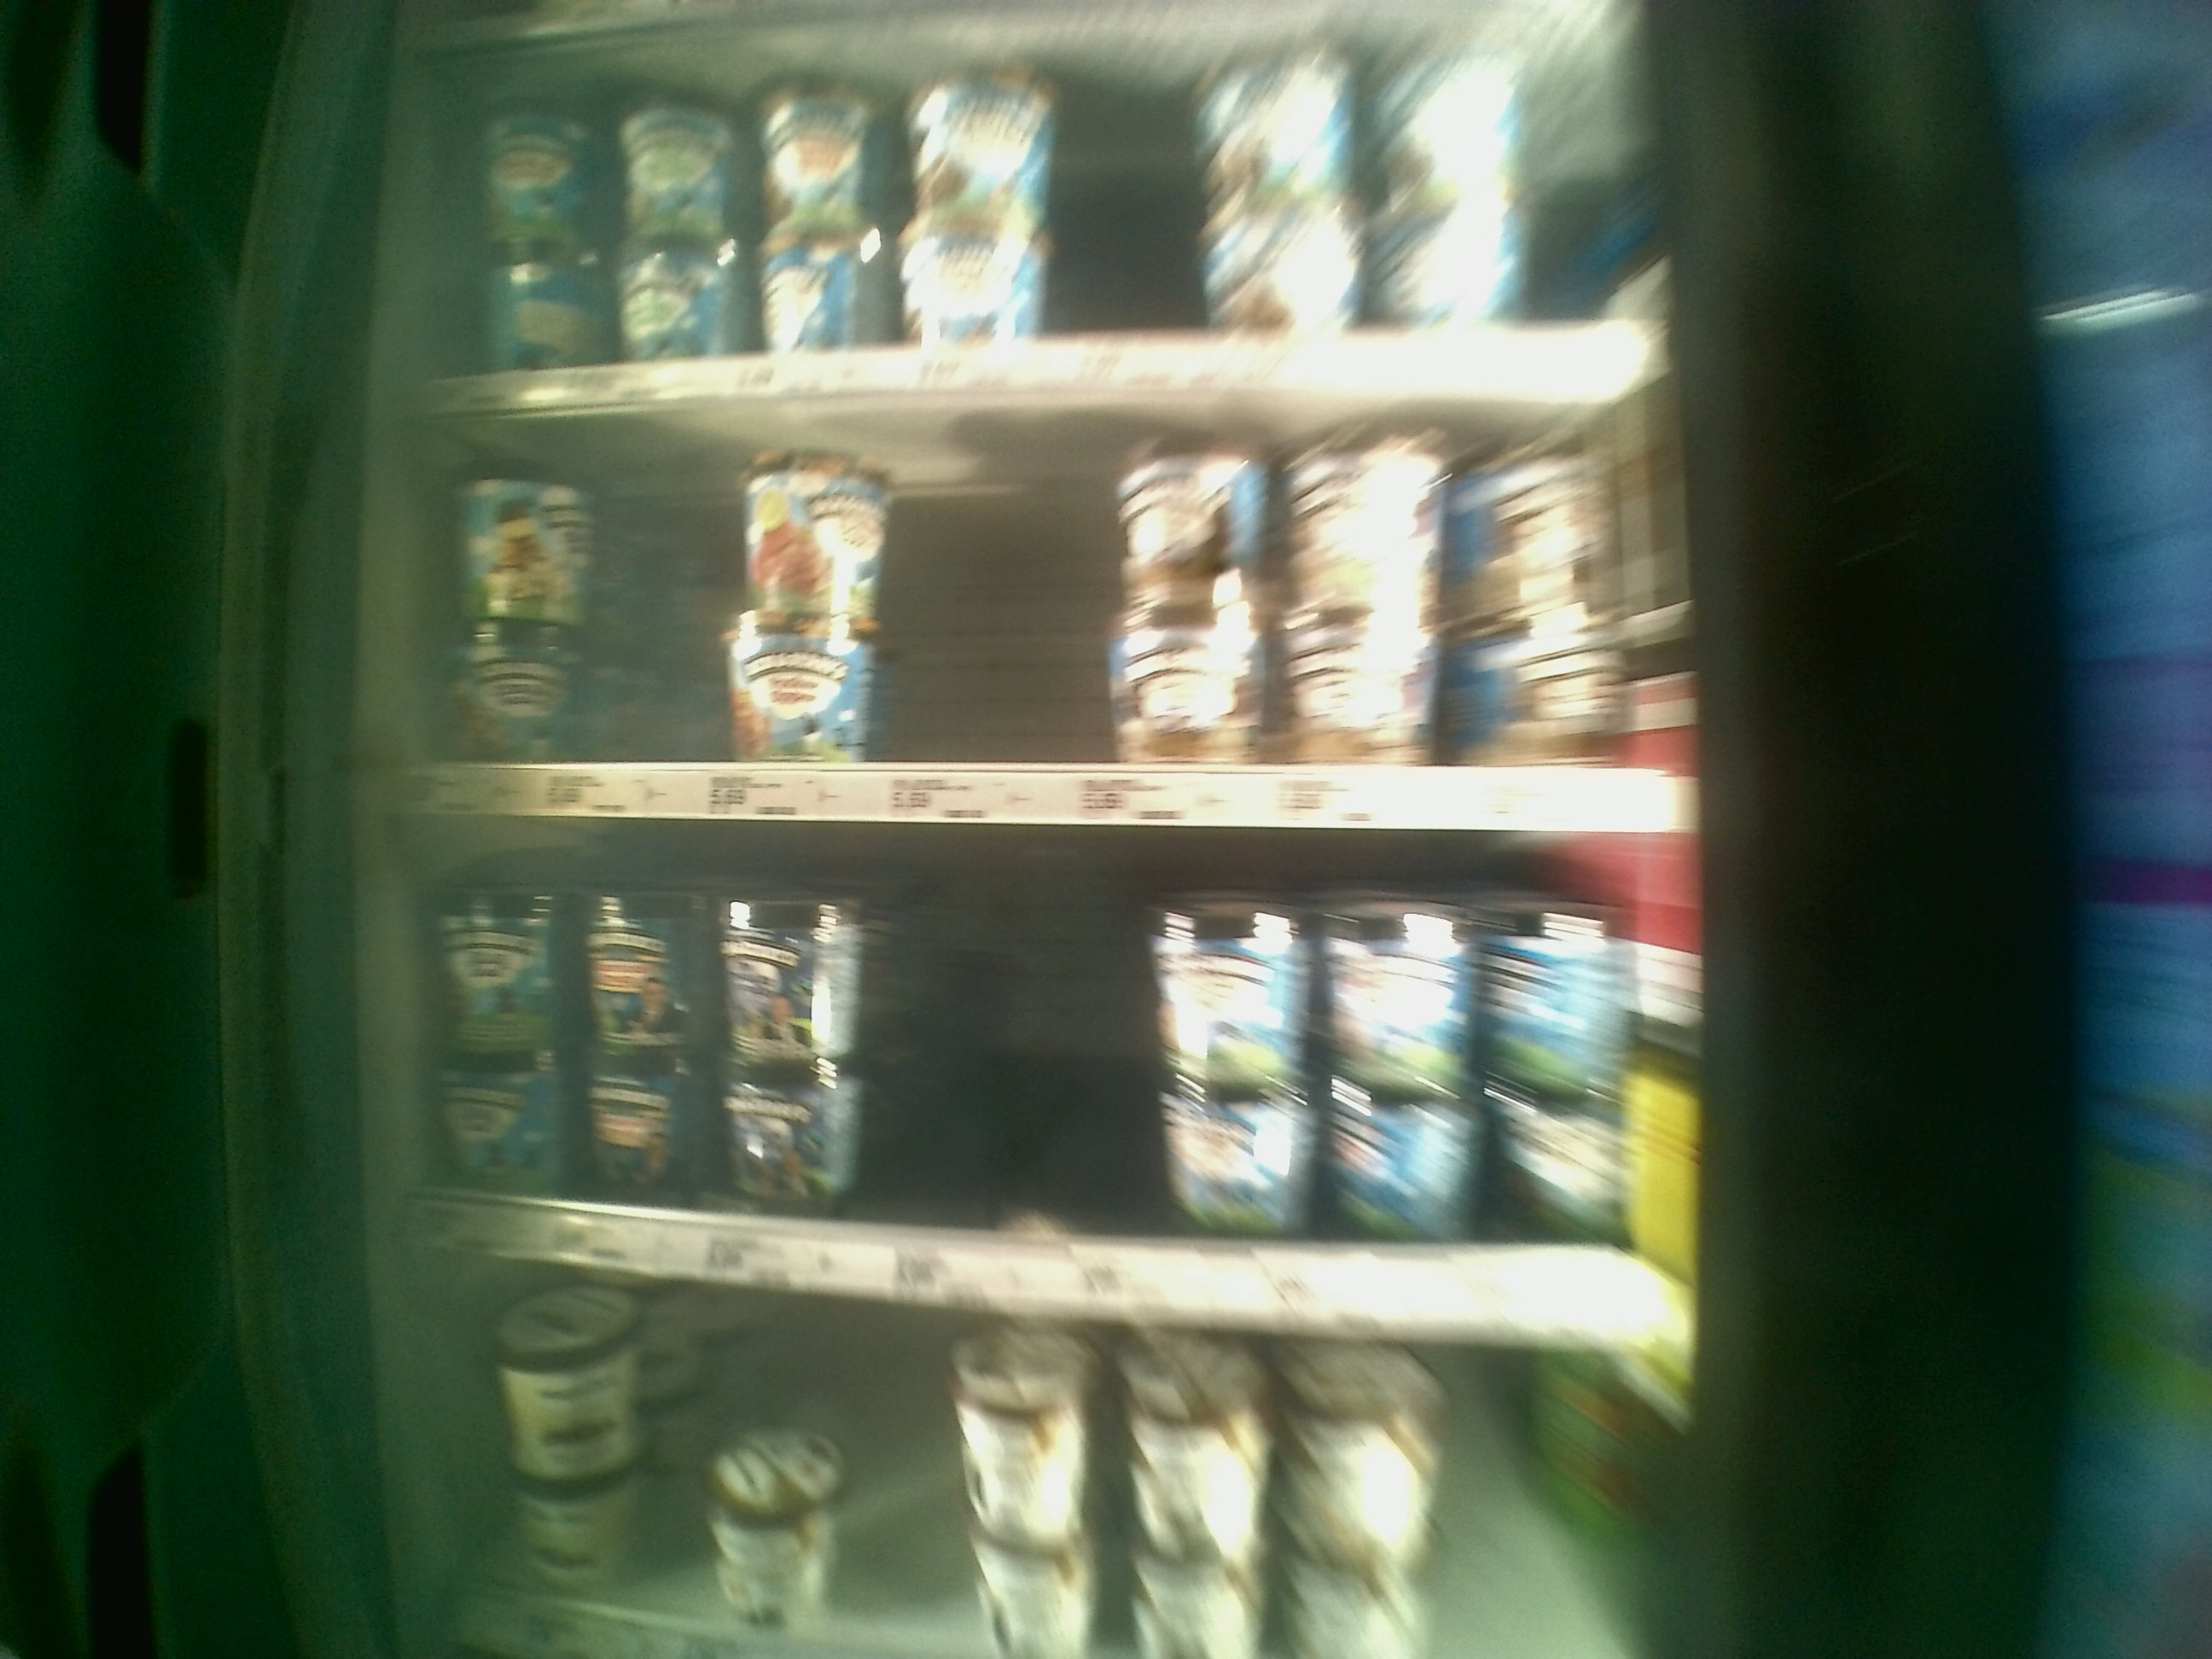shelf: (409, 807, 1716, 1361), (415, 403, 1709, 838)
